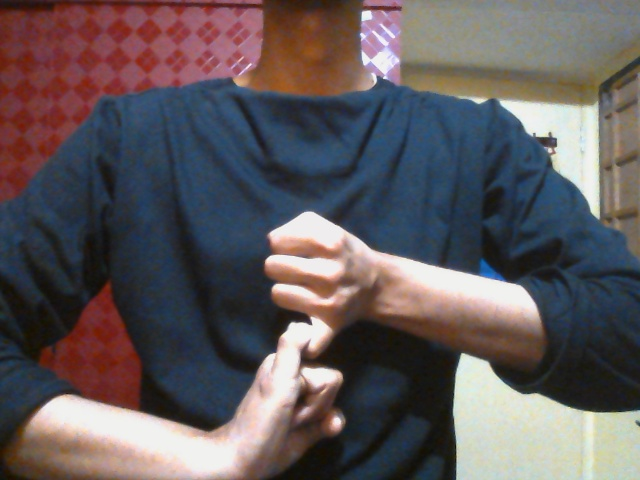S: (227, 207, 385, 480)
